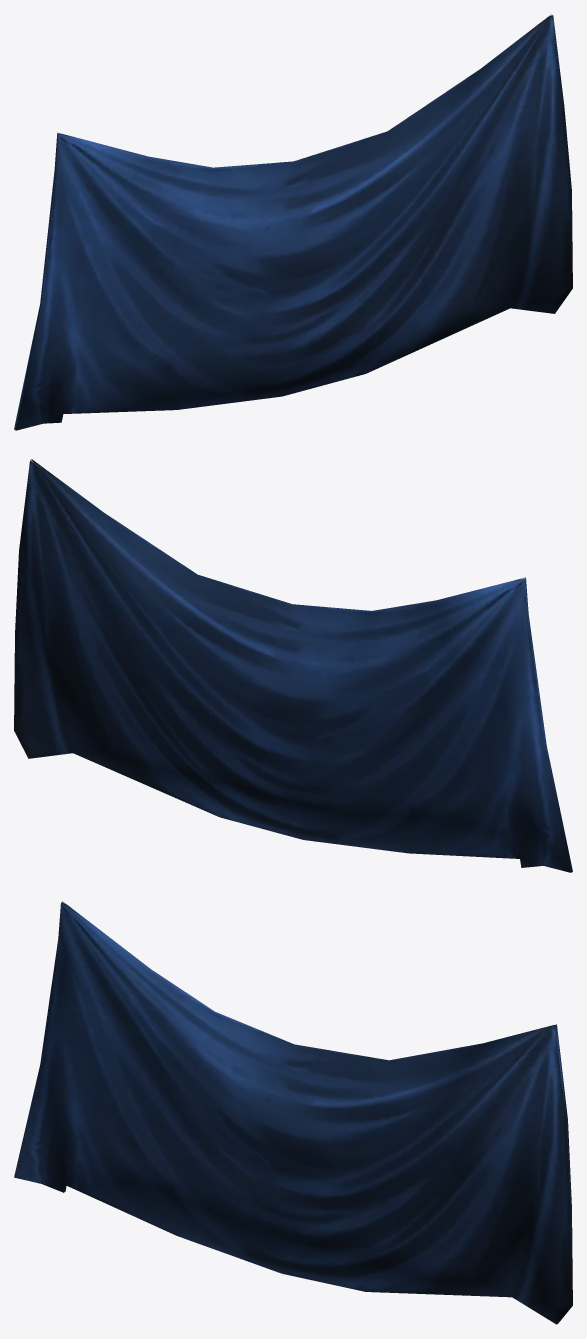
File: GS_VOB_LITTLECURTAIN_04.glb
The picture shows the model from 3 angles, top to bottom: view 1: azimuth 30°, elevation 25°; view 2: azimuth 150°, elevation 25°; view 3: azimuth 330°, elevation 25°; orthographic projection.
Visible parts, largest first — view 1: Mesh; view 2: Mesh; view 3: Mesh.
Part boxes in pixels (left/top/right/bottom): Mesh: left=14, top=14, right=572, bottom=430; Mesh: left=14, top=459, right=572, bottom=872; Mesh: left=14, top=901, right=572, bottom=1324.
Size of the model in its own units: 1.38 by 0.7467 by 0.0324.
Materials: 1 (1 with a texture image).
